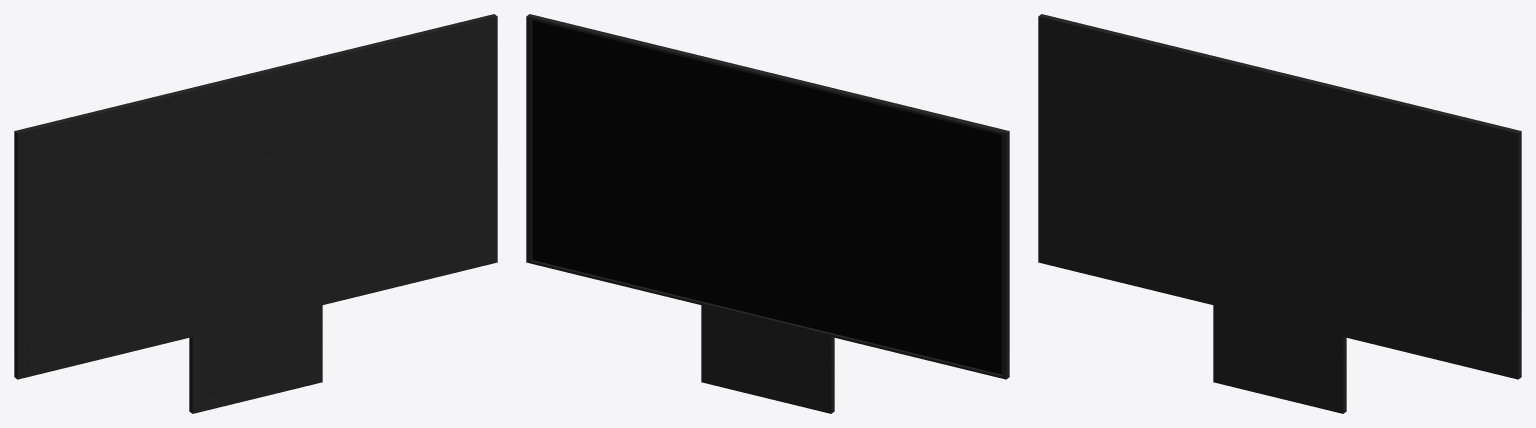
The picture shows the model from 3 angles, left to right: view 1: azimuth 30°, elevation 25°; view 2: azimuth 150°, elevation 25°; view 3: azimuth 330°, elevation 25°; orthographic projection.
Parts seen in each view (by area): view 1: TV; view 2: TV; view 3: TV.
Boxes of the visible parts, x1,y1,x2,y2 form: TV: [14, 14, 497, 413]; TV: [526, 14, 1009, 413]; TV: [1038, 14, 1521, 413].
Size of the model in its own units: 2.69 by 1.73 by 0.0327.
1 material, 1 textured.
